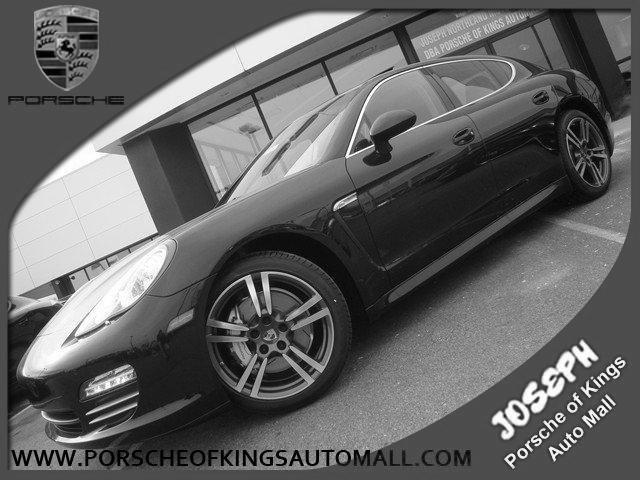car: (17, 55, 619, 453)
